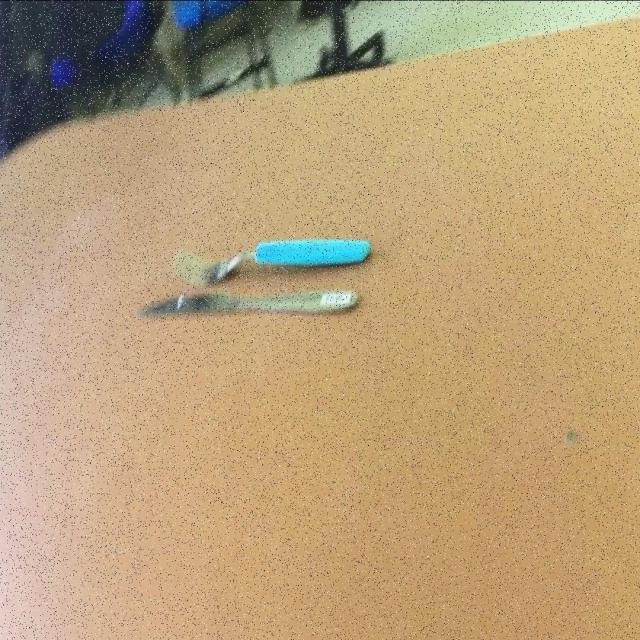Fork: (169, 235, 371, 285)
Knife: (169, 235, 371, 285), (134, 287, 358, 318)
